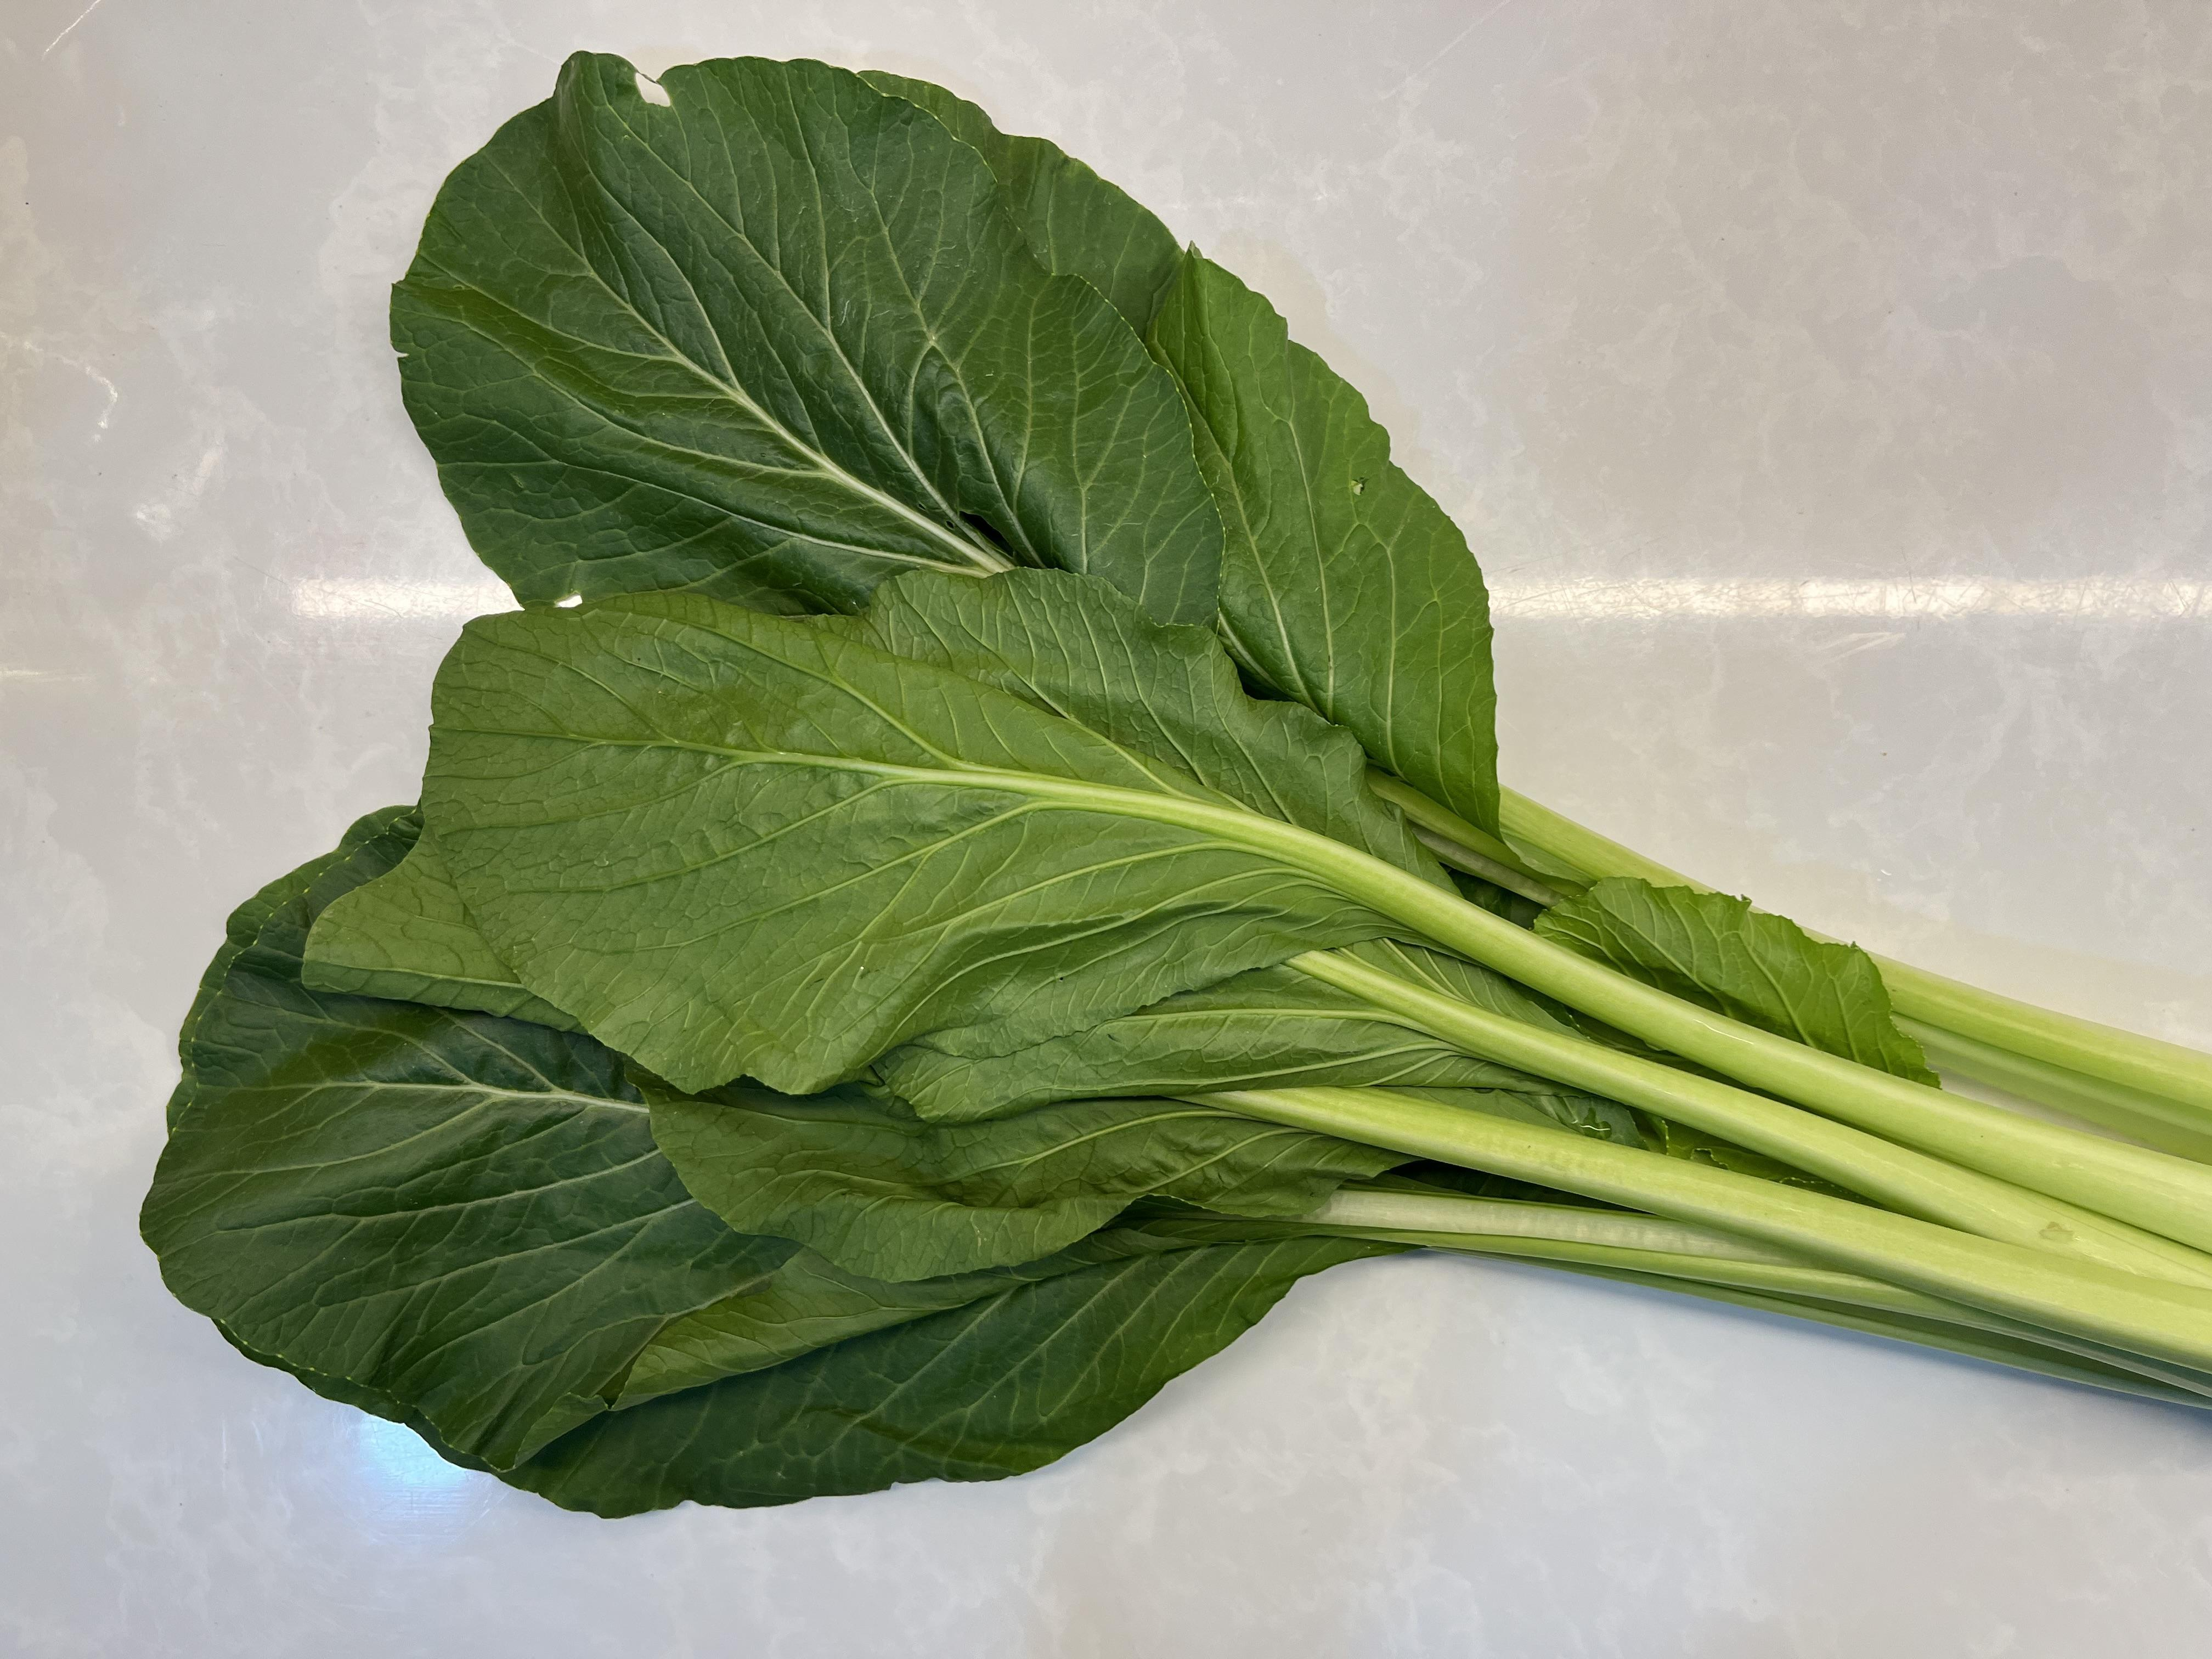Healthy-Pechay: (324, 71, 2123, 1520)
